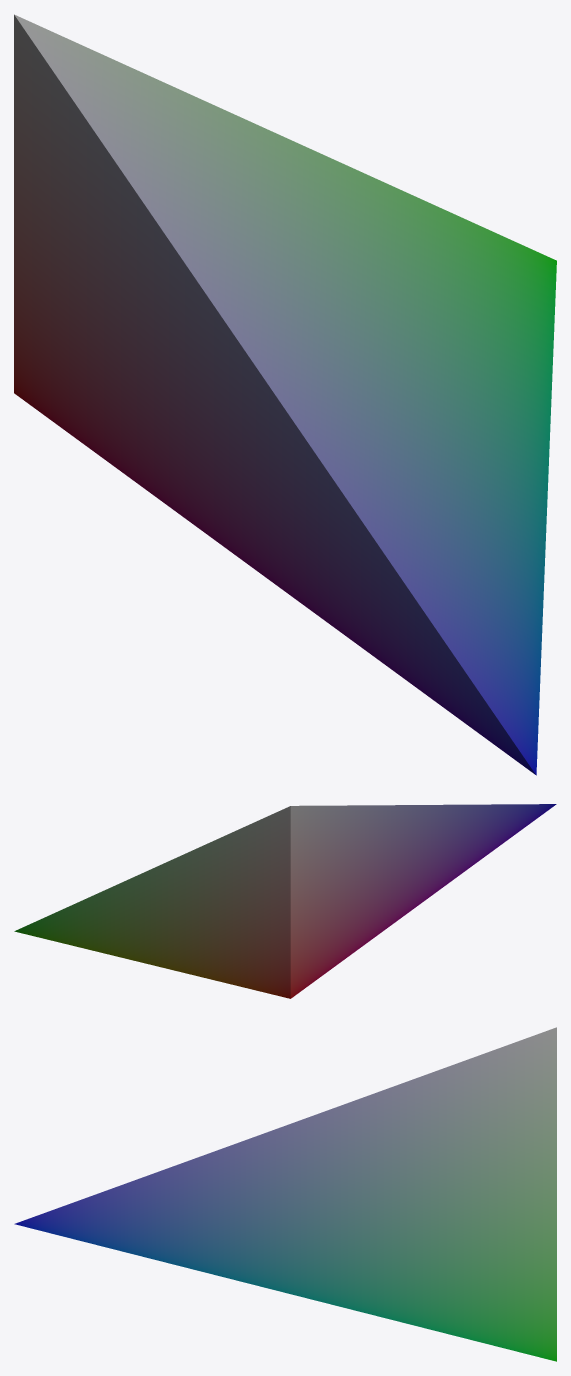
Rendered from baseline.obj.
3 renders of one model, top to bottom at view 1: azimuth 30°, elevation 25°; view 2: azimuth 150°, elevation 25°; view 3: azimuth 270°, elevation 25°, orthographic. The views are drawn at different scales.
Bounding box in the file's own units: 60 × 40 × 100.
